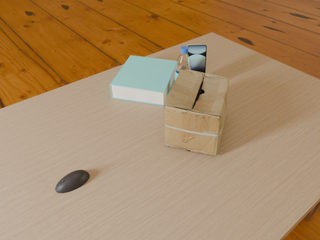book: (110, 55, 176, 106)
bottle: (175, 46, 191, 80)
box: (164, 69, 229, 156)
mouse: (55, 170, 90, 193)
phone: (187, 45, 207, 73)
